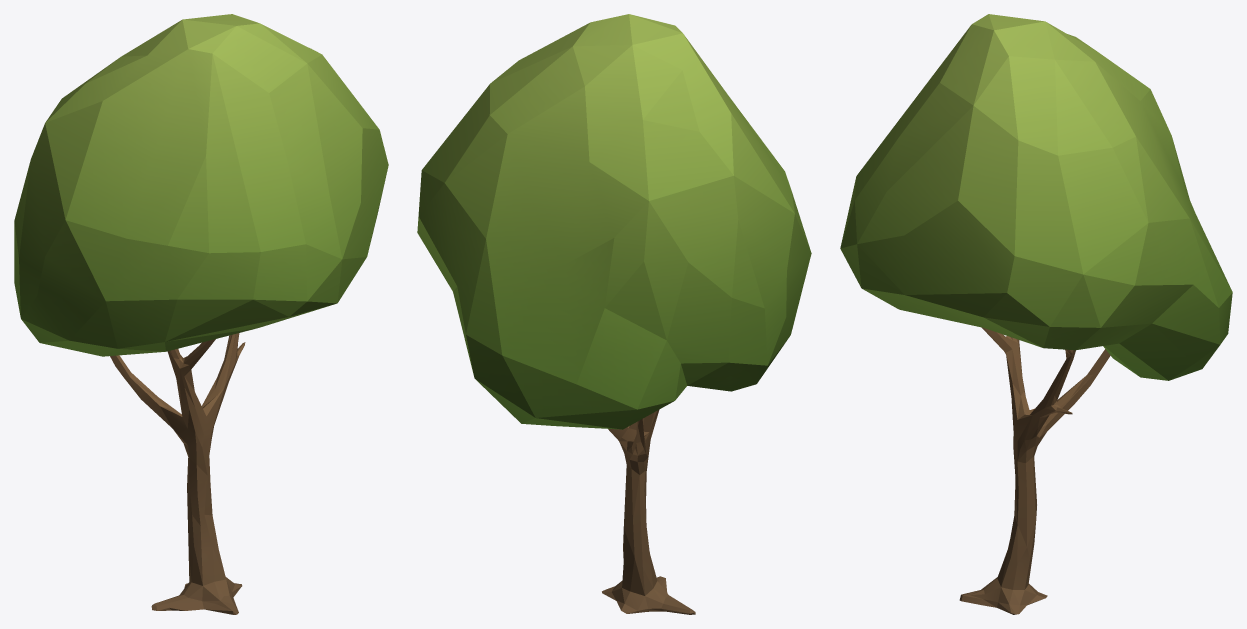
The model's file is Spring_Tree_13.glb.
3 views of the same model, side by side, from view 1: azimuth 30°, elevation 25°; view 2: azimuth 150°, elevation 25°; view 3: azimuth 270°, elevation 25° (orthographic).
Visible parts, largest first — view 1: Spring_Tree_13_LOD0; view 2: Spring_Tree_13_LOD0; view 3: Spring_Tree_13_LOD0.
Part boxes in pixels (x1,y1,x2,y2): Spring_Tree_13_LOD0: [14, 14, 388, 614]; Spring_Tree_13_LOD0: [417, 14, 811, 614]; Spring_Tree_13_LOD0: [840, 14, 1232, 614].
Size of what is drawn, in the model's own units: 4.52 by 7.22 by 4.42.
1 material, 1 textured.
